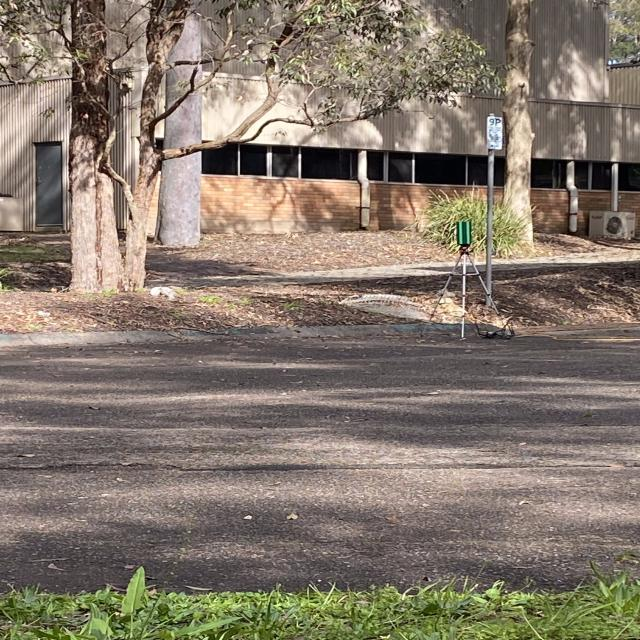matrix: (454, 218, 474, 246)
